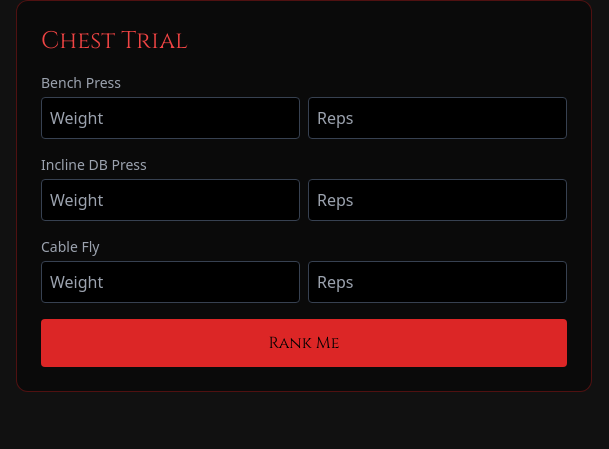
LiftRankForm › blocks submit for a zero weight
This screenshot has width=609, height=449.
Type "0" into the number field with placeholder "Weight" below "Bench Press".
click(170, 118); type("0")  # box 41,97 -> 300,139
Type "5" into the number field with placeholder "Reps" below "Bench Press".
click(438, 118); type("5")  # box 308,97 -> 567,139
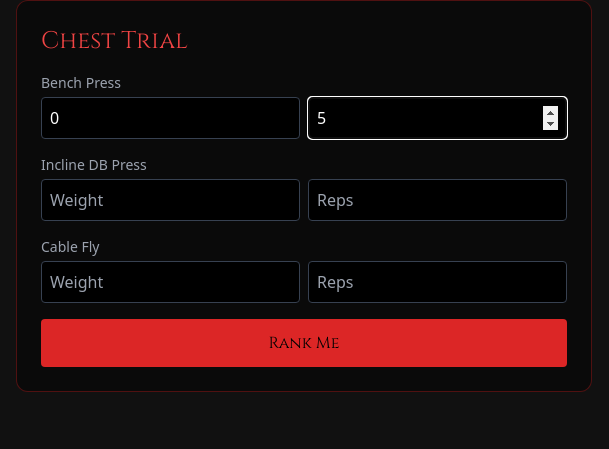
Type "100" into the number field with placeholder "Weight" below "Incline DB Press".
click(170, 200); type("100")  # box 41,179 -> 300,221
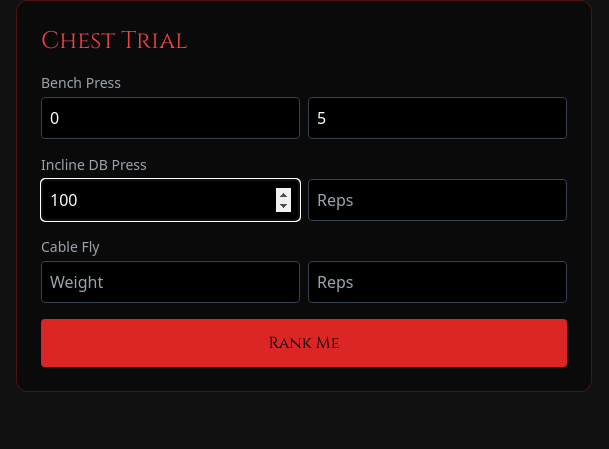
Type "5" into the number field with placeholder "Reps" below "Incline DB Press".
click(438, 200); type("5")  # box 308,179 -> 567,221
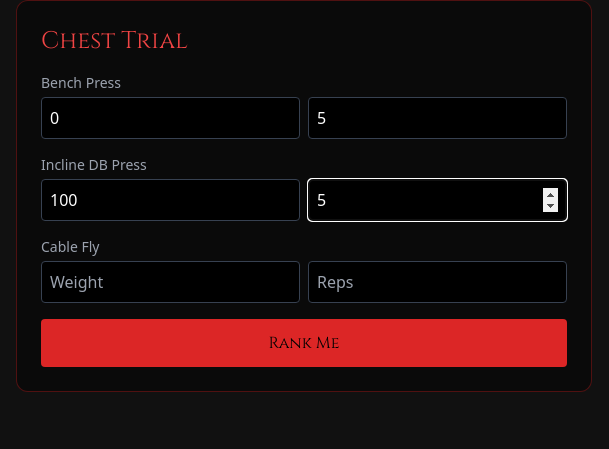
Type "100" into the number field with placeholder "Weight".
click(170, 282); type("100")  # box 41,261 -> 300,303
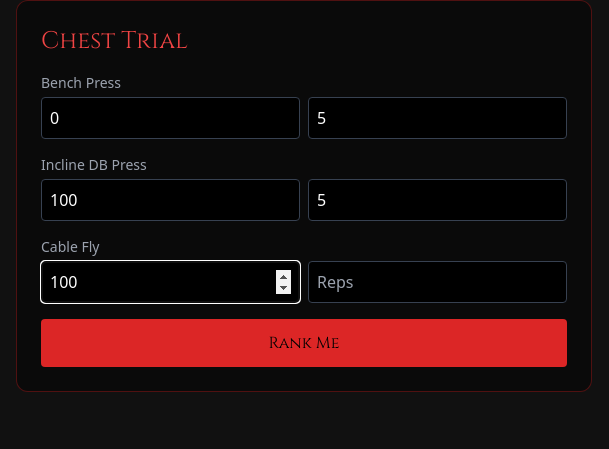
Type "5" into the number field with placeholder "Reps".
click(438, 282); type("5")  # box 308,261 -> 567,303
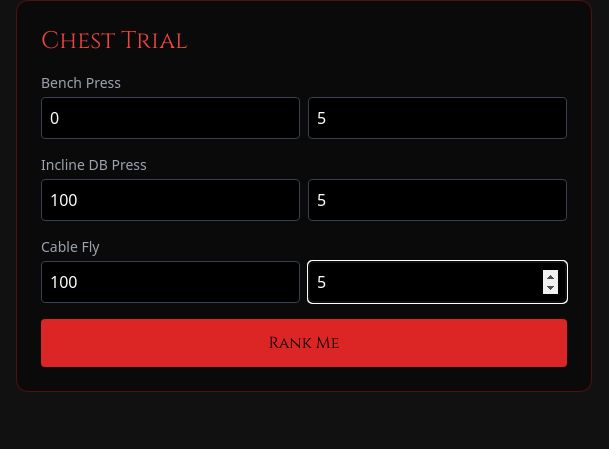
Click the button "Rank Me".
click(304, 343)  # box 41,319 -> 567,367
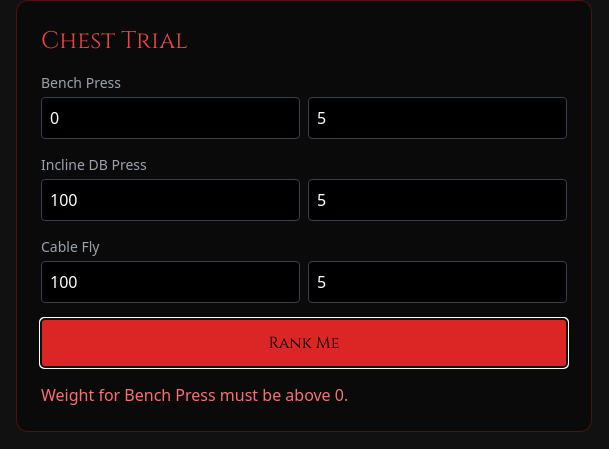
Check: the message reads "Weight for Bench Press must be above 0.", box 41,384 -> 348,406
